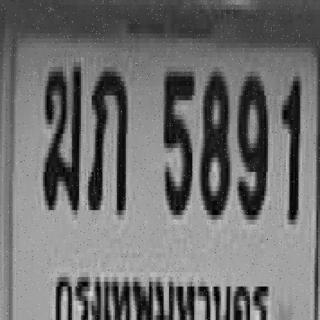A06: (41, 62, 79, 210)
A32: (86, 67, 126, 210)
N01: (280, 72, 298, 220)
N05: (162, 67, 192, 210)
N08: (200, 67, 228, 215)
N09: (236, 72, 266, 215)
